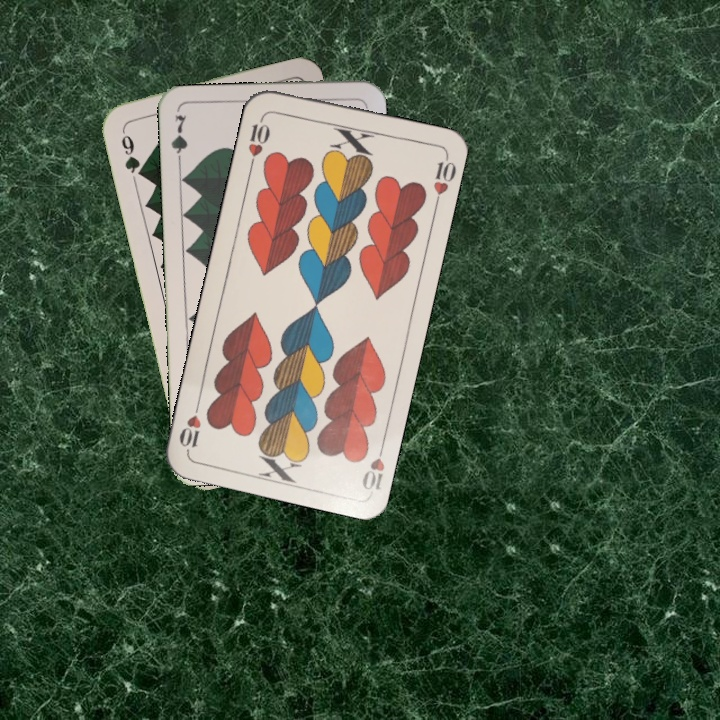G7: (167, 110, 190, 169)
G9: (117, 124, 147, 180)
H10: (358, 436, 388, 495), (244, 111, 273, 170)
